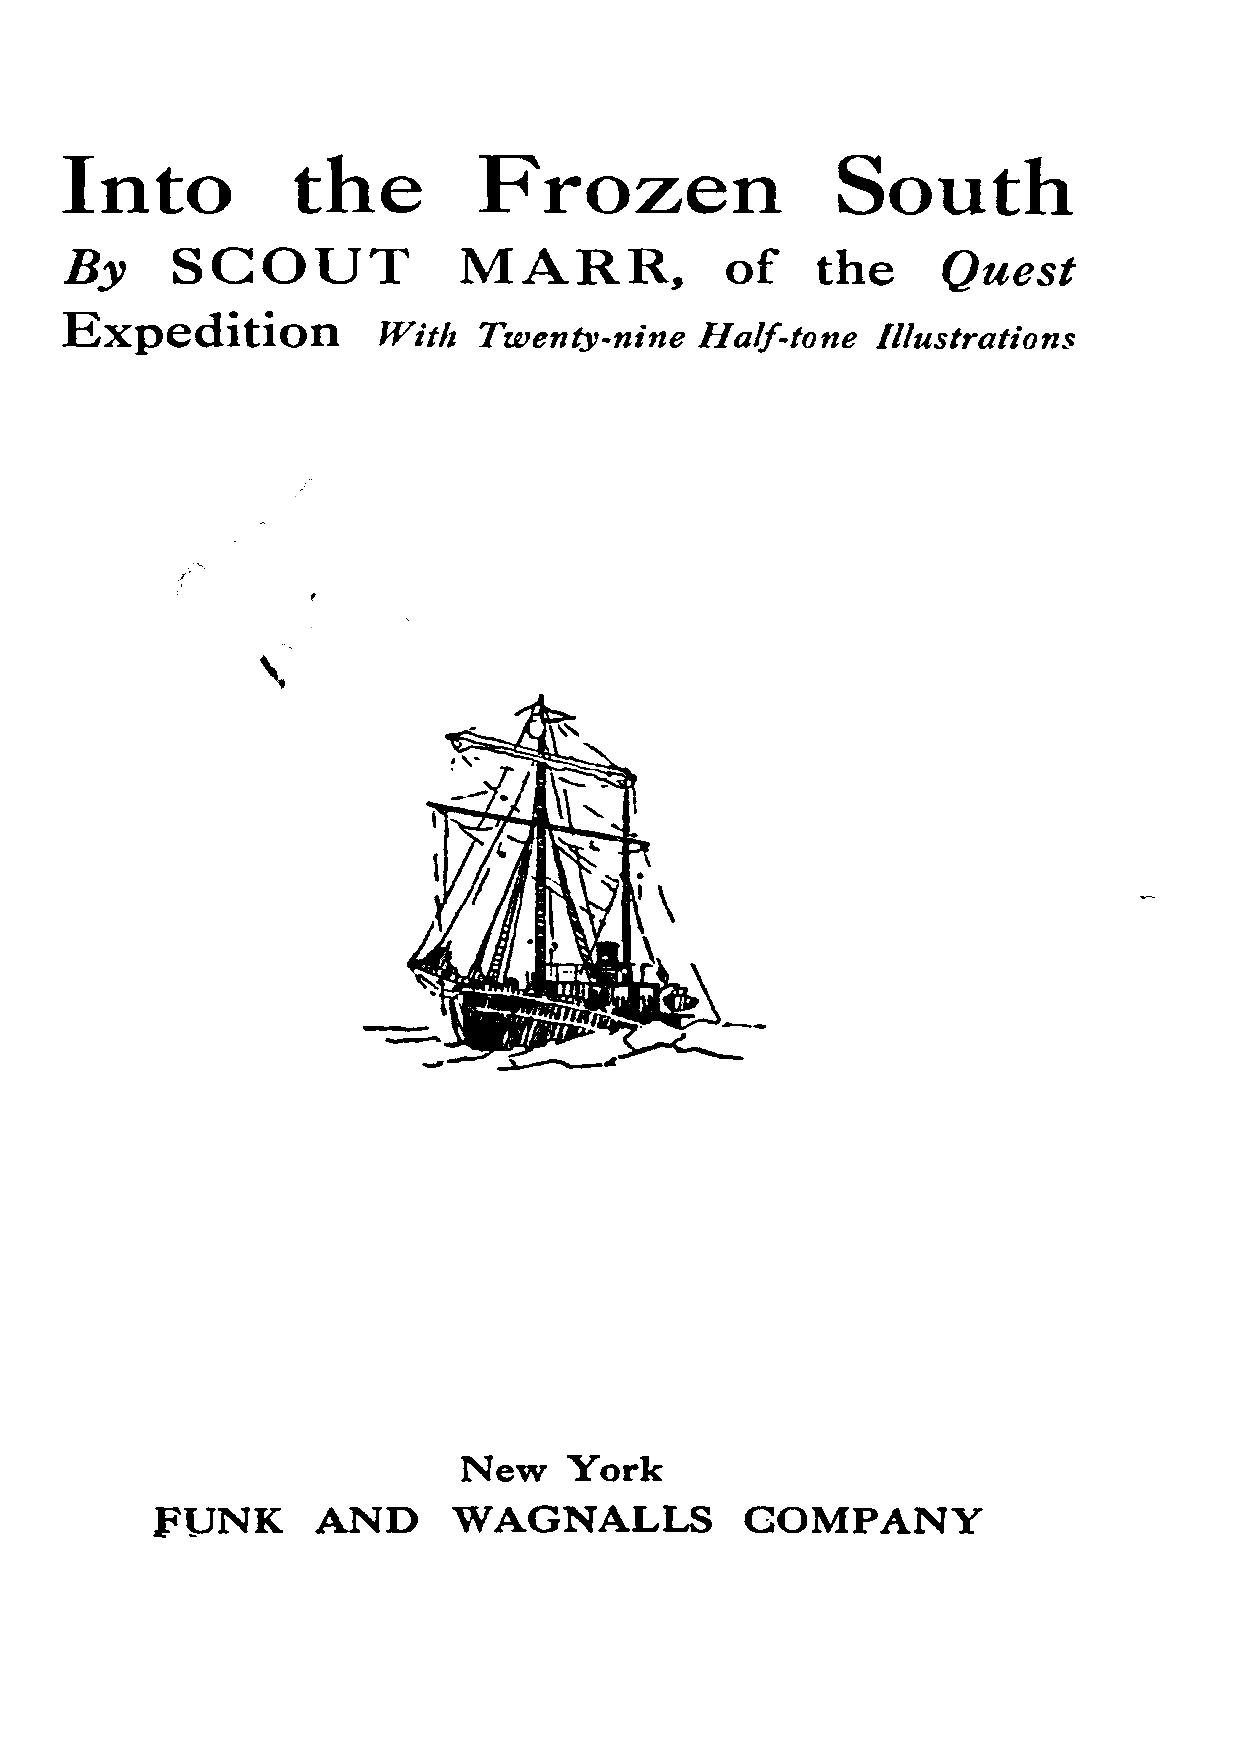author: (56, 243, 682, 295)
title: (56, 150, 1076, 219)
